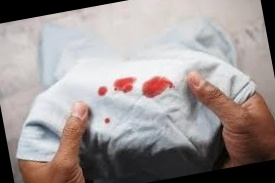blood: (142, 74, 173, 97), (113, 75, 137, 95), (97, 85, 108, 96), (102, 117, 110, 124)
